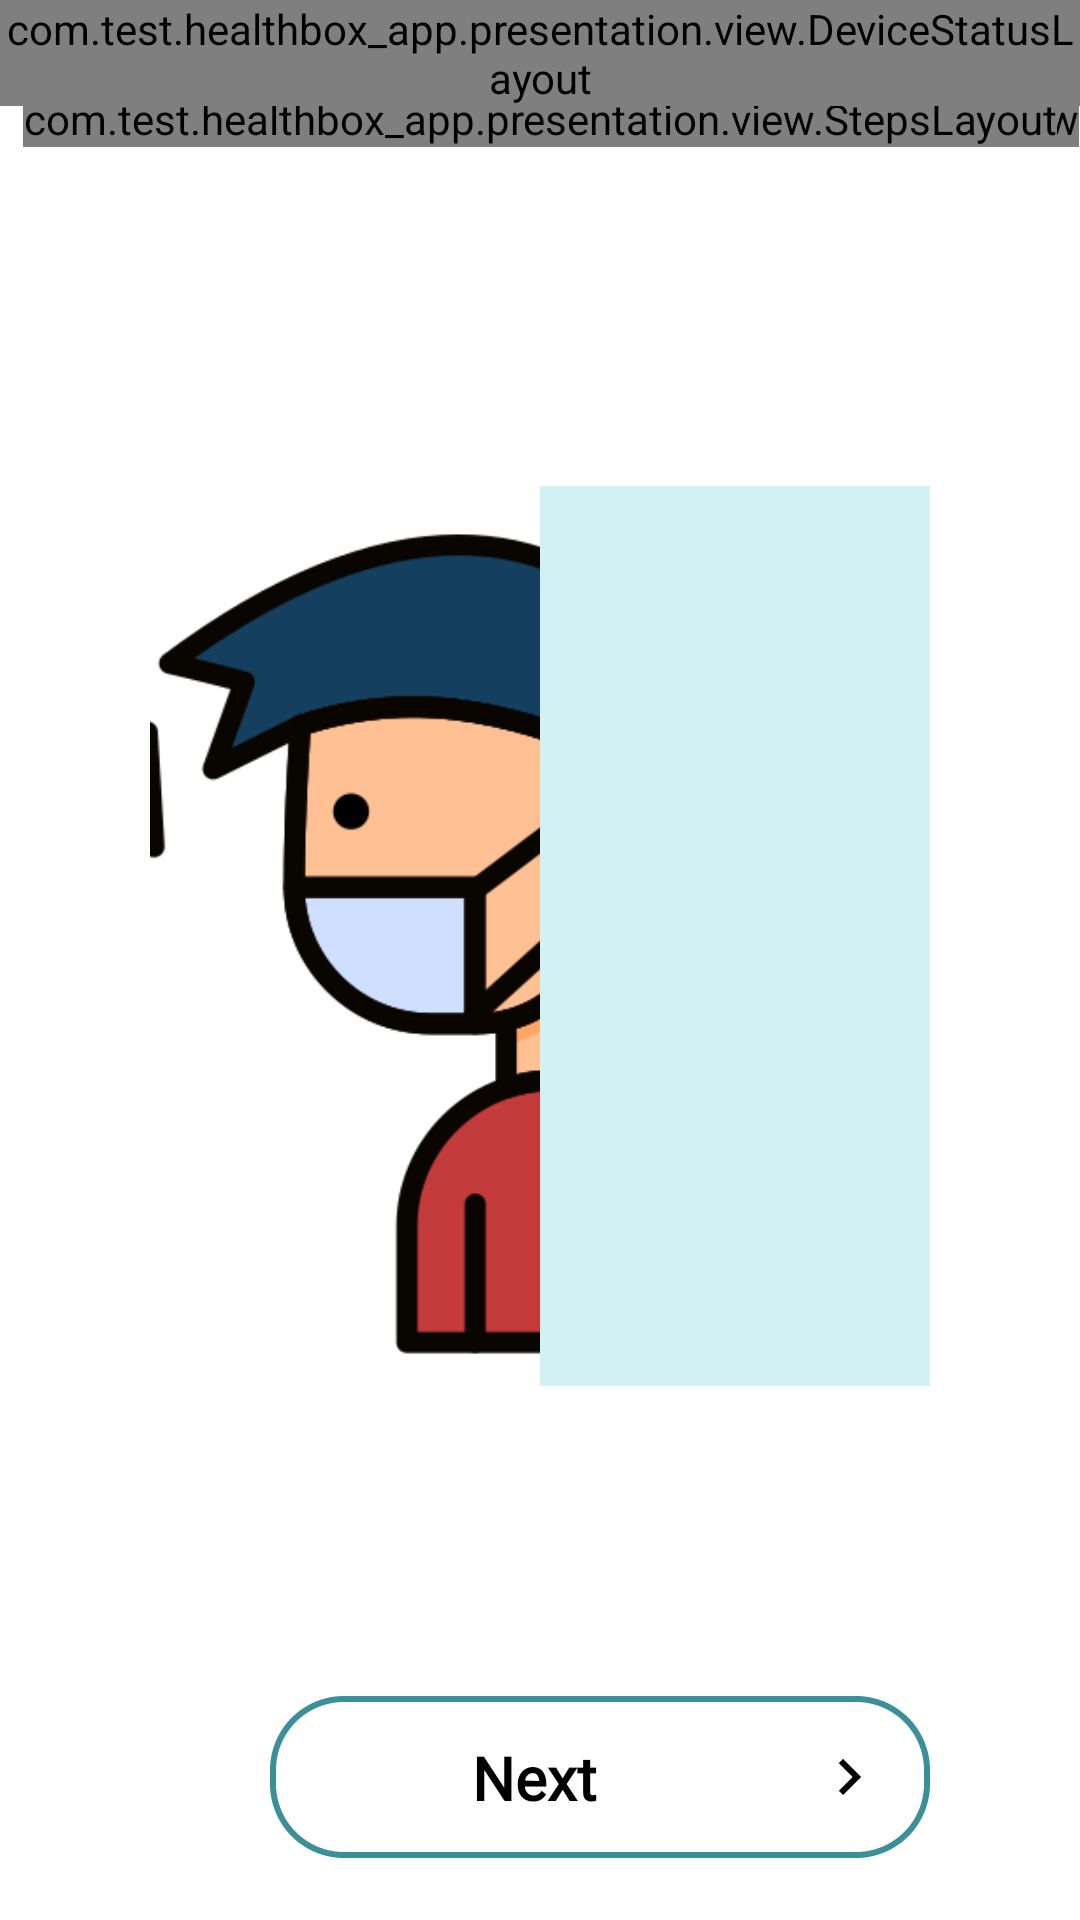

Screen size 1080px×1920px. Icon name, then its box in pixels as (x1, y1, x2, y2):
arrow: (839, 1759, 861, 1795)
